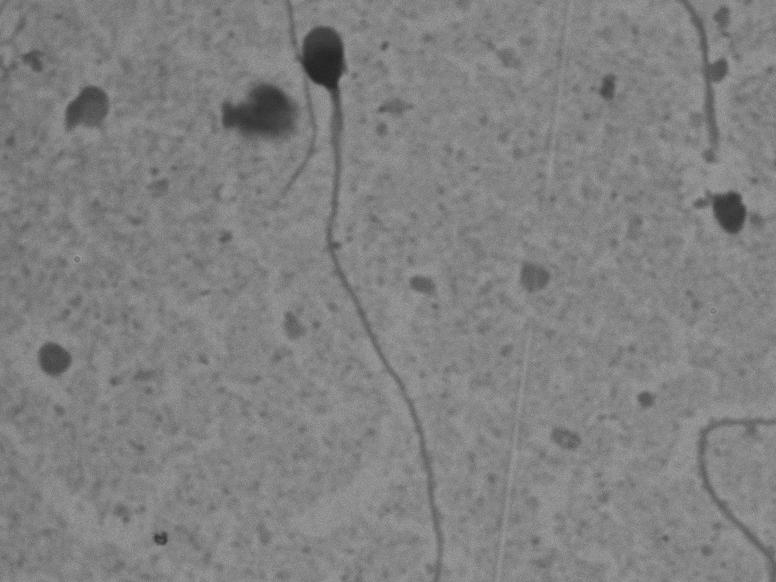Normal: (292, 21, 472, 567)
